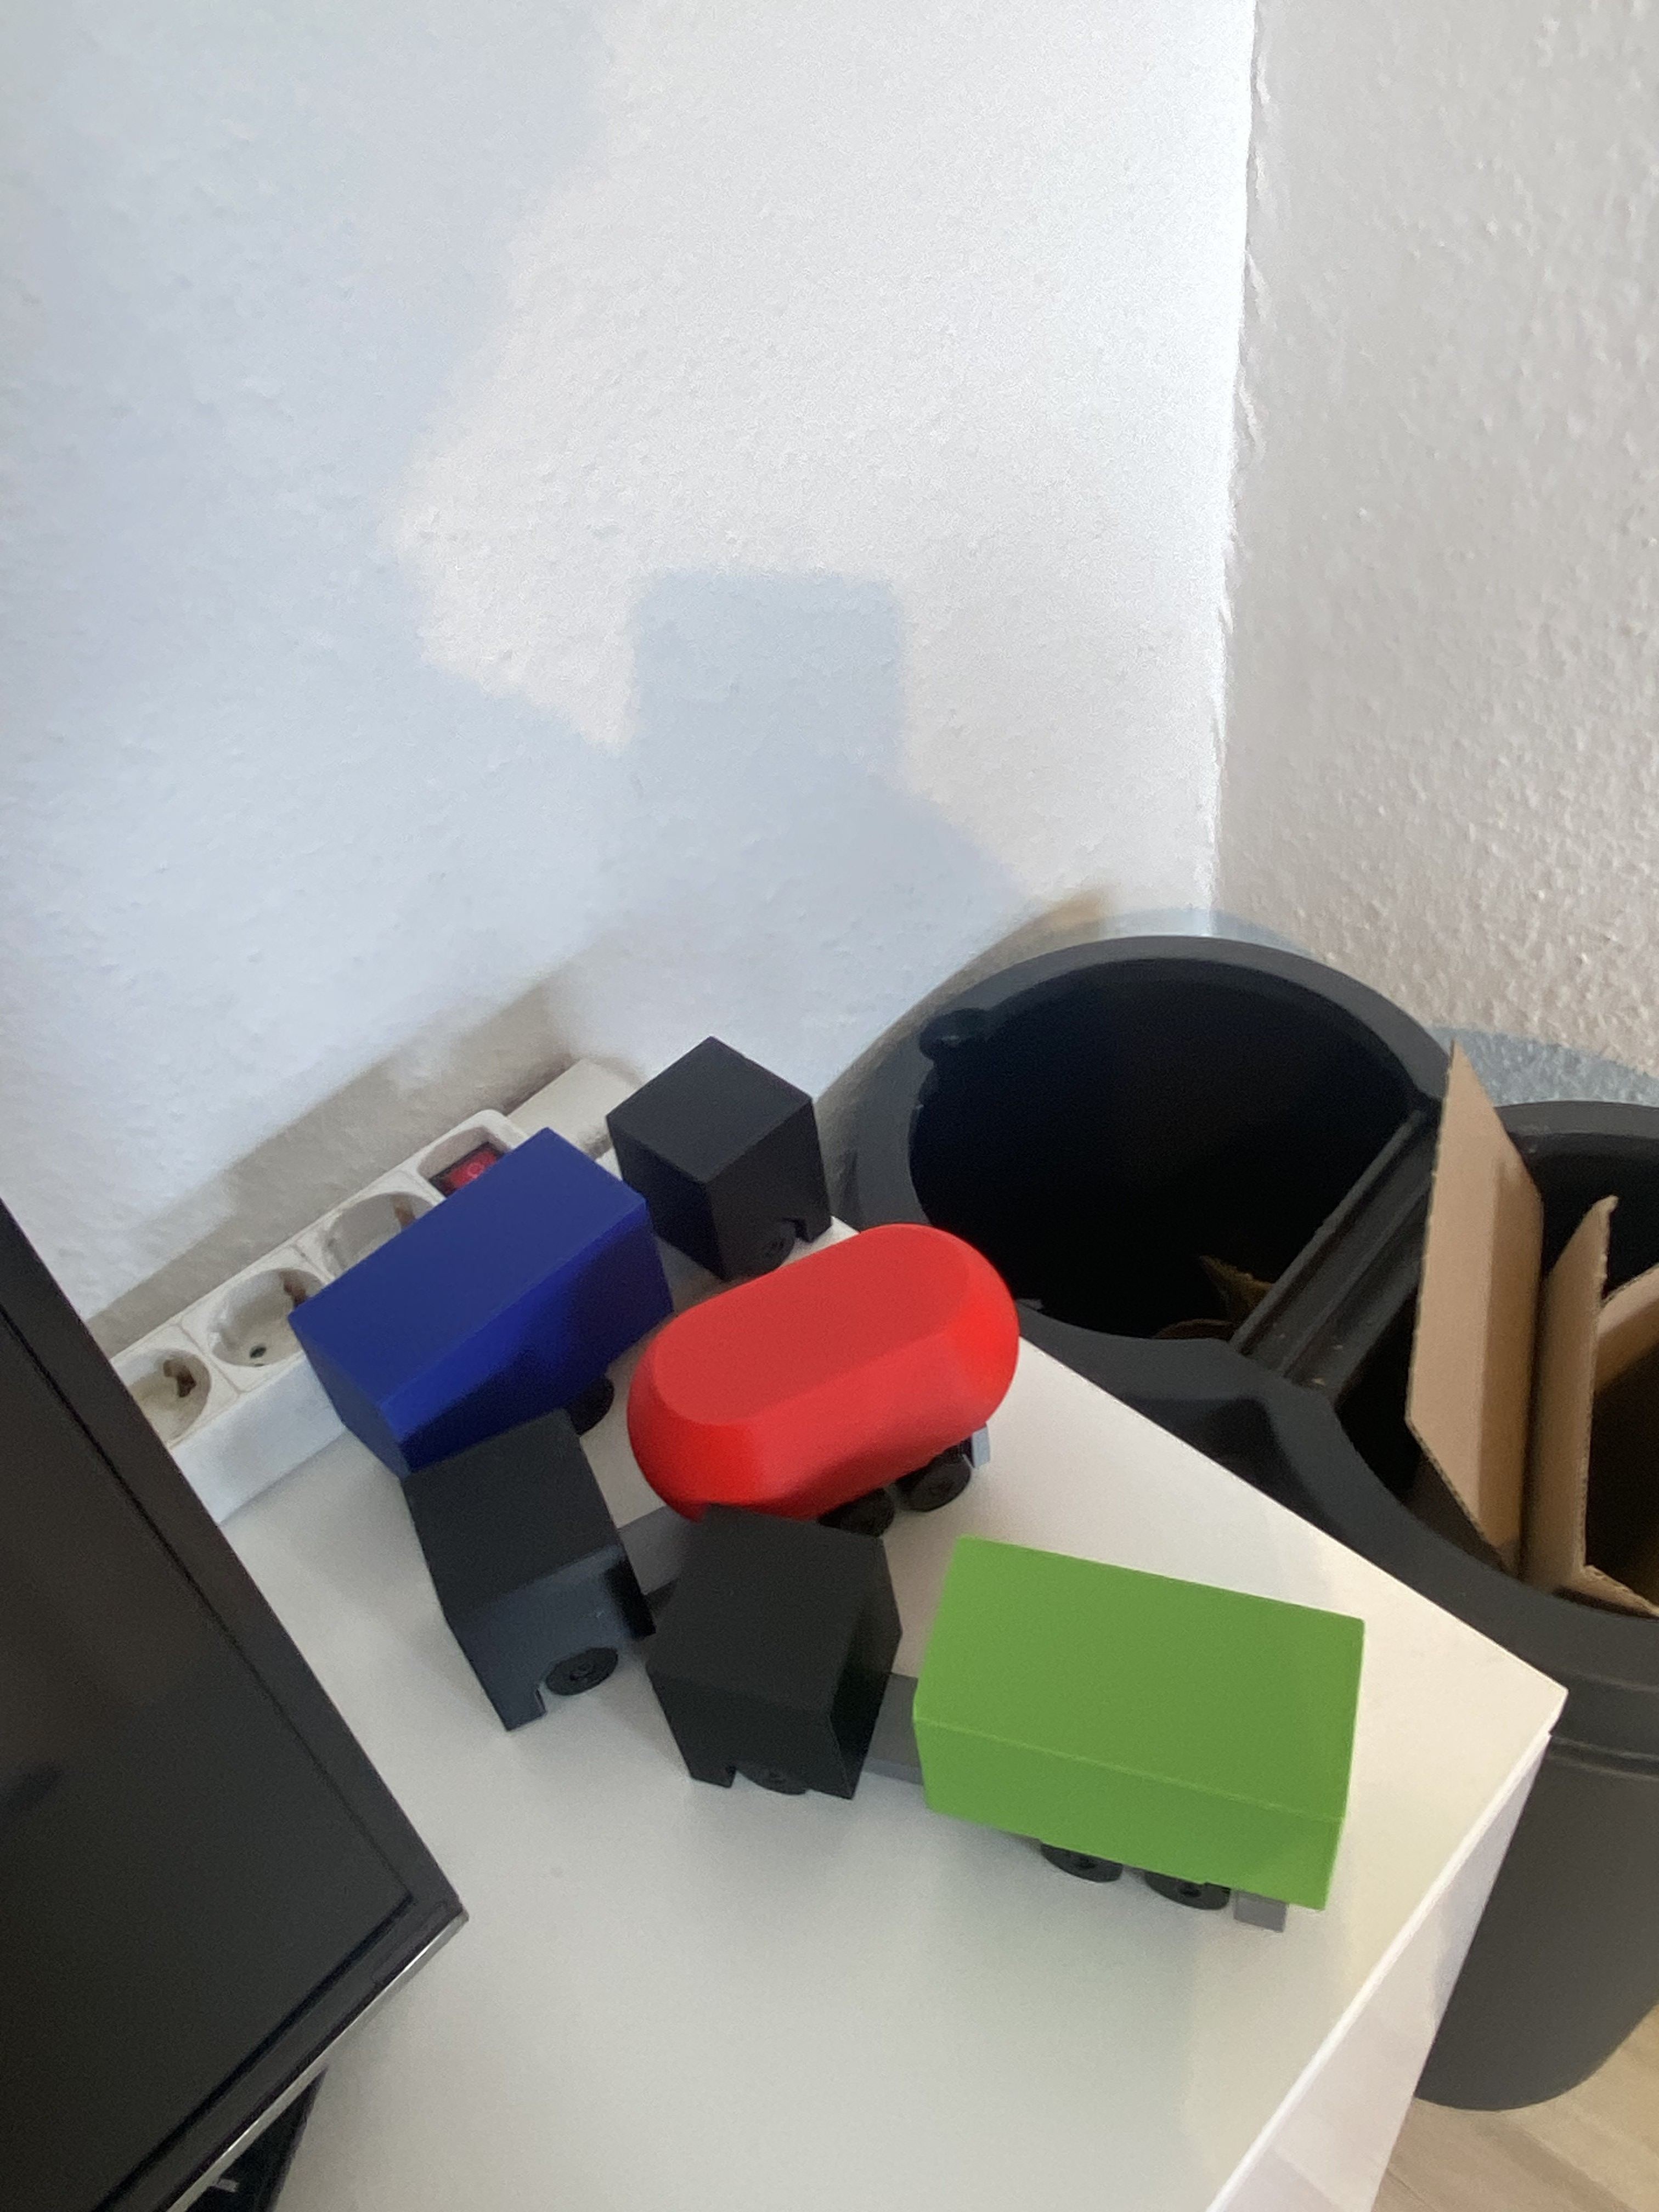blue_truck: (289, 1130, 859, 1360)
green_truck: (659, 1529, 1358, 1871)
red_truck: (378, 1336, 1061, 1601)
